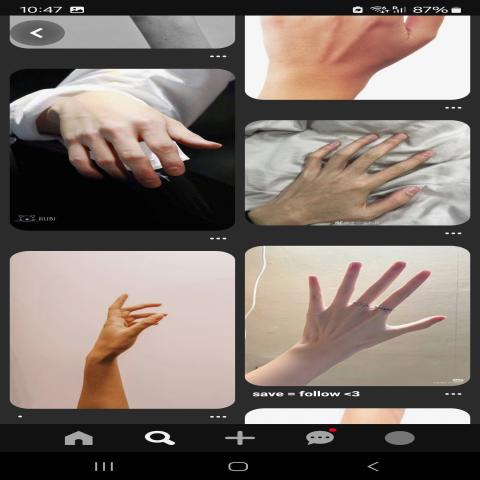hands: (38, 82, 233, 201), (284, 254, 450, 377), (271, 121, 460, 225), (62, 270, 180, 396)
